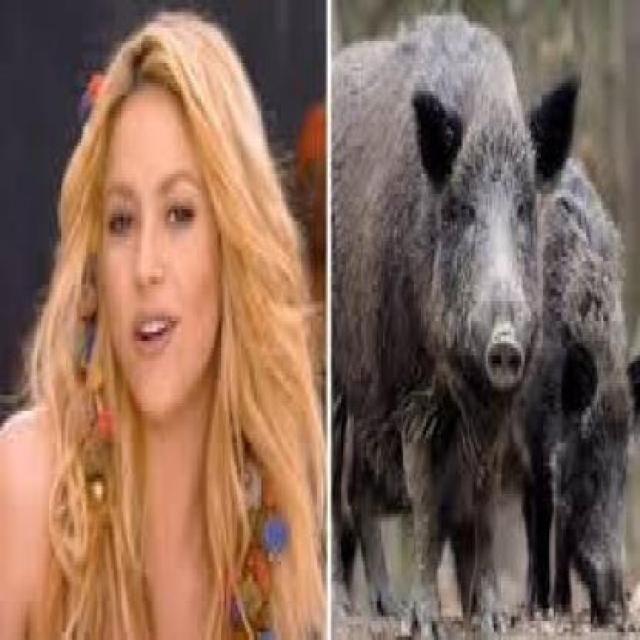wildboar: (327, 0, 582, 640), (427, 127, 640, 640)
